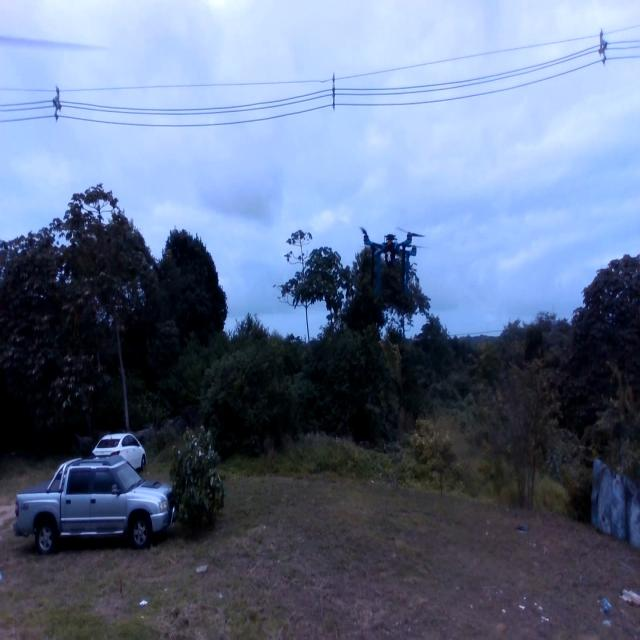-uav-: (352, 220, 432, 306)
